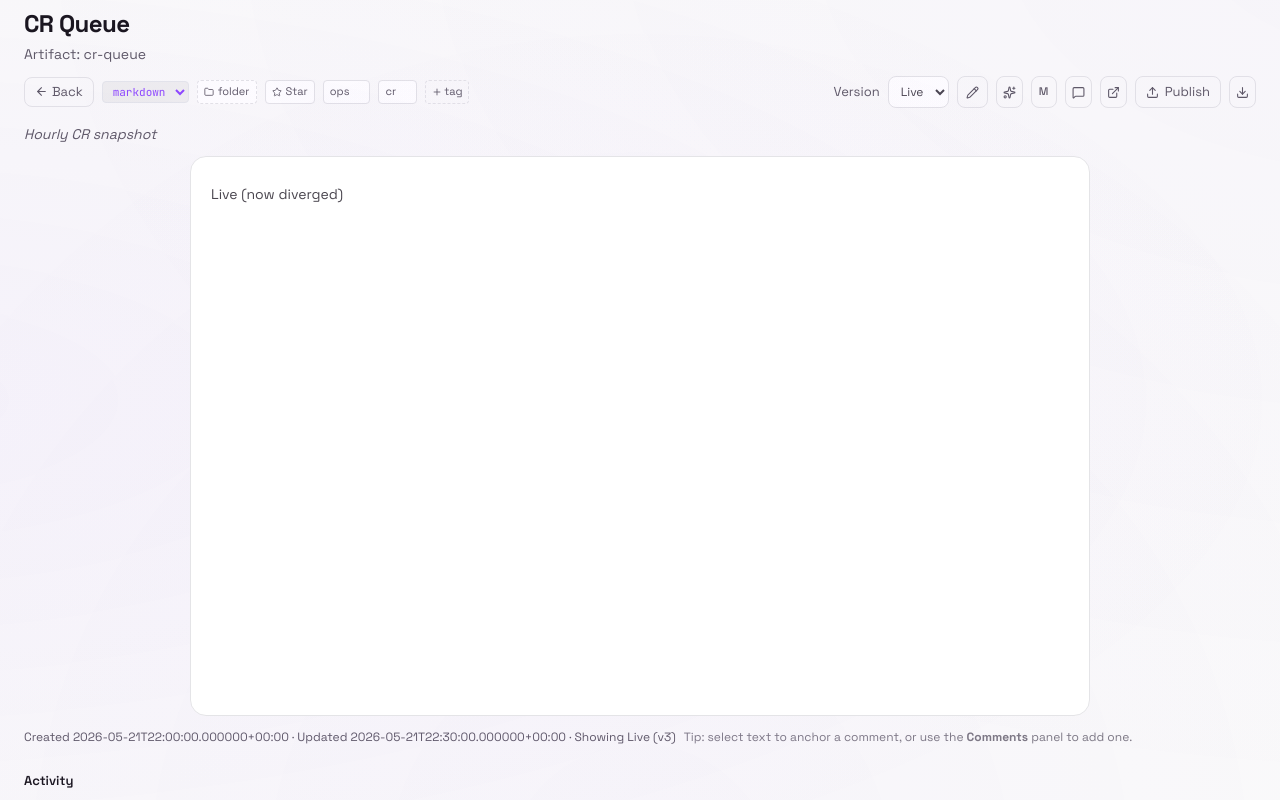
Test: ArtifactDetailPage › selecting the latest version number reads that snapshot — NOT Live (round 11 regression)
Expected: the button "CR Queue" is shown, [24,8,151,40]
# Select v3 (the latest numbered snapshot).
Select "v3" in the dropdown named "Version": (918, 92) [888,76,949,108]
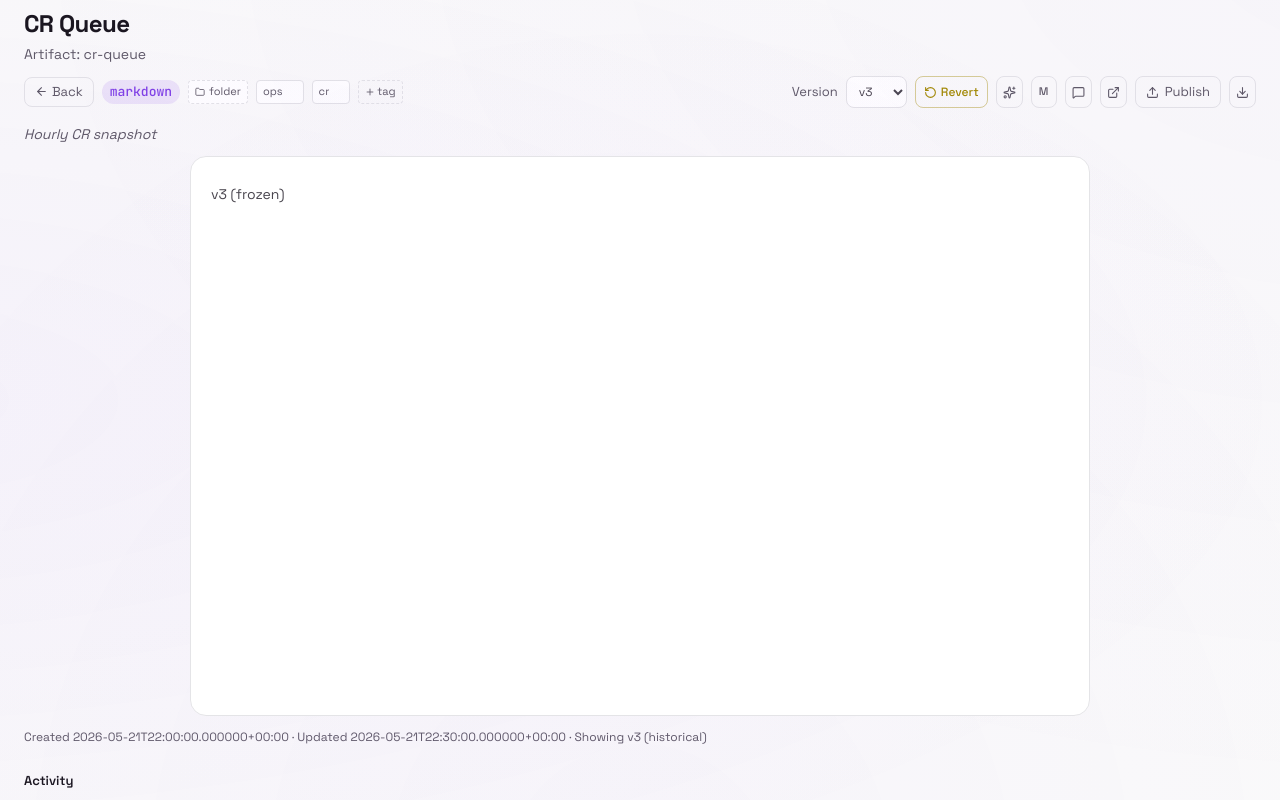
Expected: the text "v3 (frozen)" is shown, [211,185,285,203]
Expected: the text "Live (now diverged)" is gone
Expected: the text "Showing v3 (historical)" is shown, [574,729,707,745]
